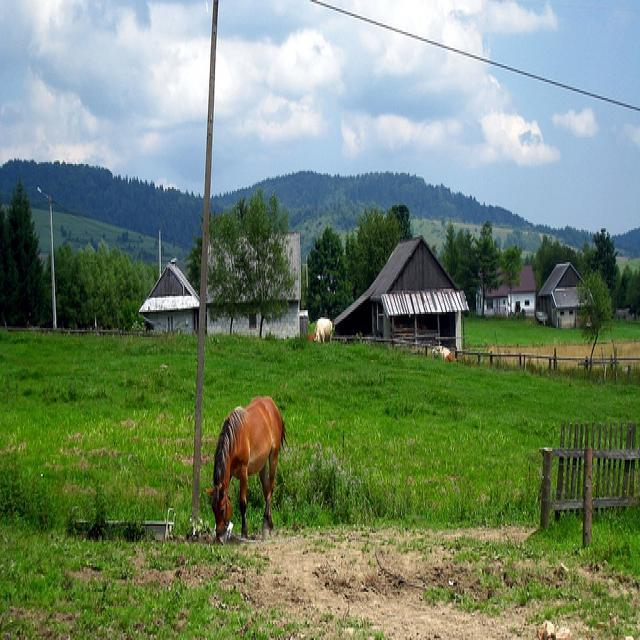cow: (430, 342, 457, 360), (312, 314, 331, 339)
